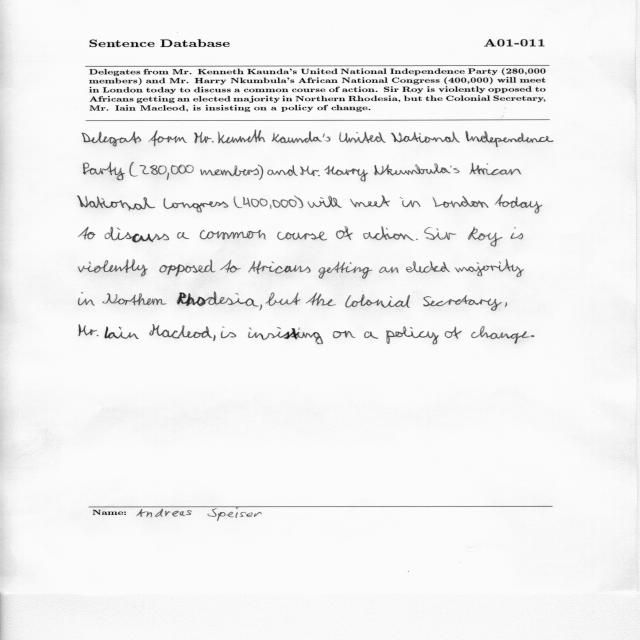word: (374, 163, 521, 176), (466, 131, 554, 147), (248, 327, 323, 344), (423, 295, 502, 311), (455, 259, 524, 277), (78, 195, 155, 211), (177, 292, 259, 307), (79, 260, 148, 277), (471, 326, 530, 344), (159, 260, 216, 277), (105, 227, 169, 242), (319, 261, 372, 279), (386, 327, 439, 345), (149, 324, 212, 339), (164, 198, 229, 212), (345, 294, 410, 308), (495, 195, 542, 214), (82, 132, 141, 147), (139, 164, 194, 180), (248, 261, 311, 274), (102, 293, 167, 305), (364, 226, 415, 241), (83, 162, 125, 180), (391, 132, 459, 143), (272, 131, 331, 143), (324, 166, 368, 182), (468, 227, 503, 247), (433, 196, 489, 208), (200, 230, 266, 240), (200, 166, 259, 177), (243, 197, 297, 209), (148, 130, 187, 146), (218, 130, 265, 143), (406, 261, 450, 273), (350, 195, 390, 208), (339, 132, 386, 143), (266, 292, 301, 306), (277, 232, 327, 241), (424, 227, 457, 240), (306, 292, 336, 306), (104, 327, 139, 339), (308, 196, 342, 208), (267, 165, 298, 176), (220, 260, 241, 273), (78, 292, 95, 306), (79, 324, 98, 336), (336, 227, 353, 240), (445, 326, 462, 339), (194, 132, 214, 143), (78, 227, 96, 239), (300, 166, 320, 176), (400, 197, 420, 207), (333, 331, 356, 339), (221, 327, 236, 338), (511, 227, 523, 239), (129, 162, 138, 176), (294, 195, 303, 208), (379, 267, 398, 273), (364, 331, 378, 339), (234, 196, 243, 208), (177, 232, 190, 239), (258, 165, 263, 180), (260, 304, 263, 311), (213, 335, 216, 341), (505, 302, 507, 307), (531, 335, 534, 337), (487, 163, 488, 165), (416, 239, 418, 240)
